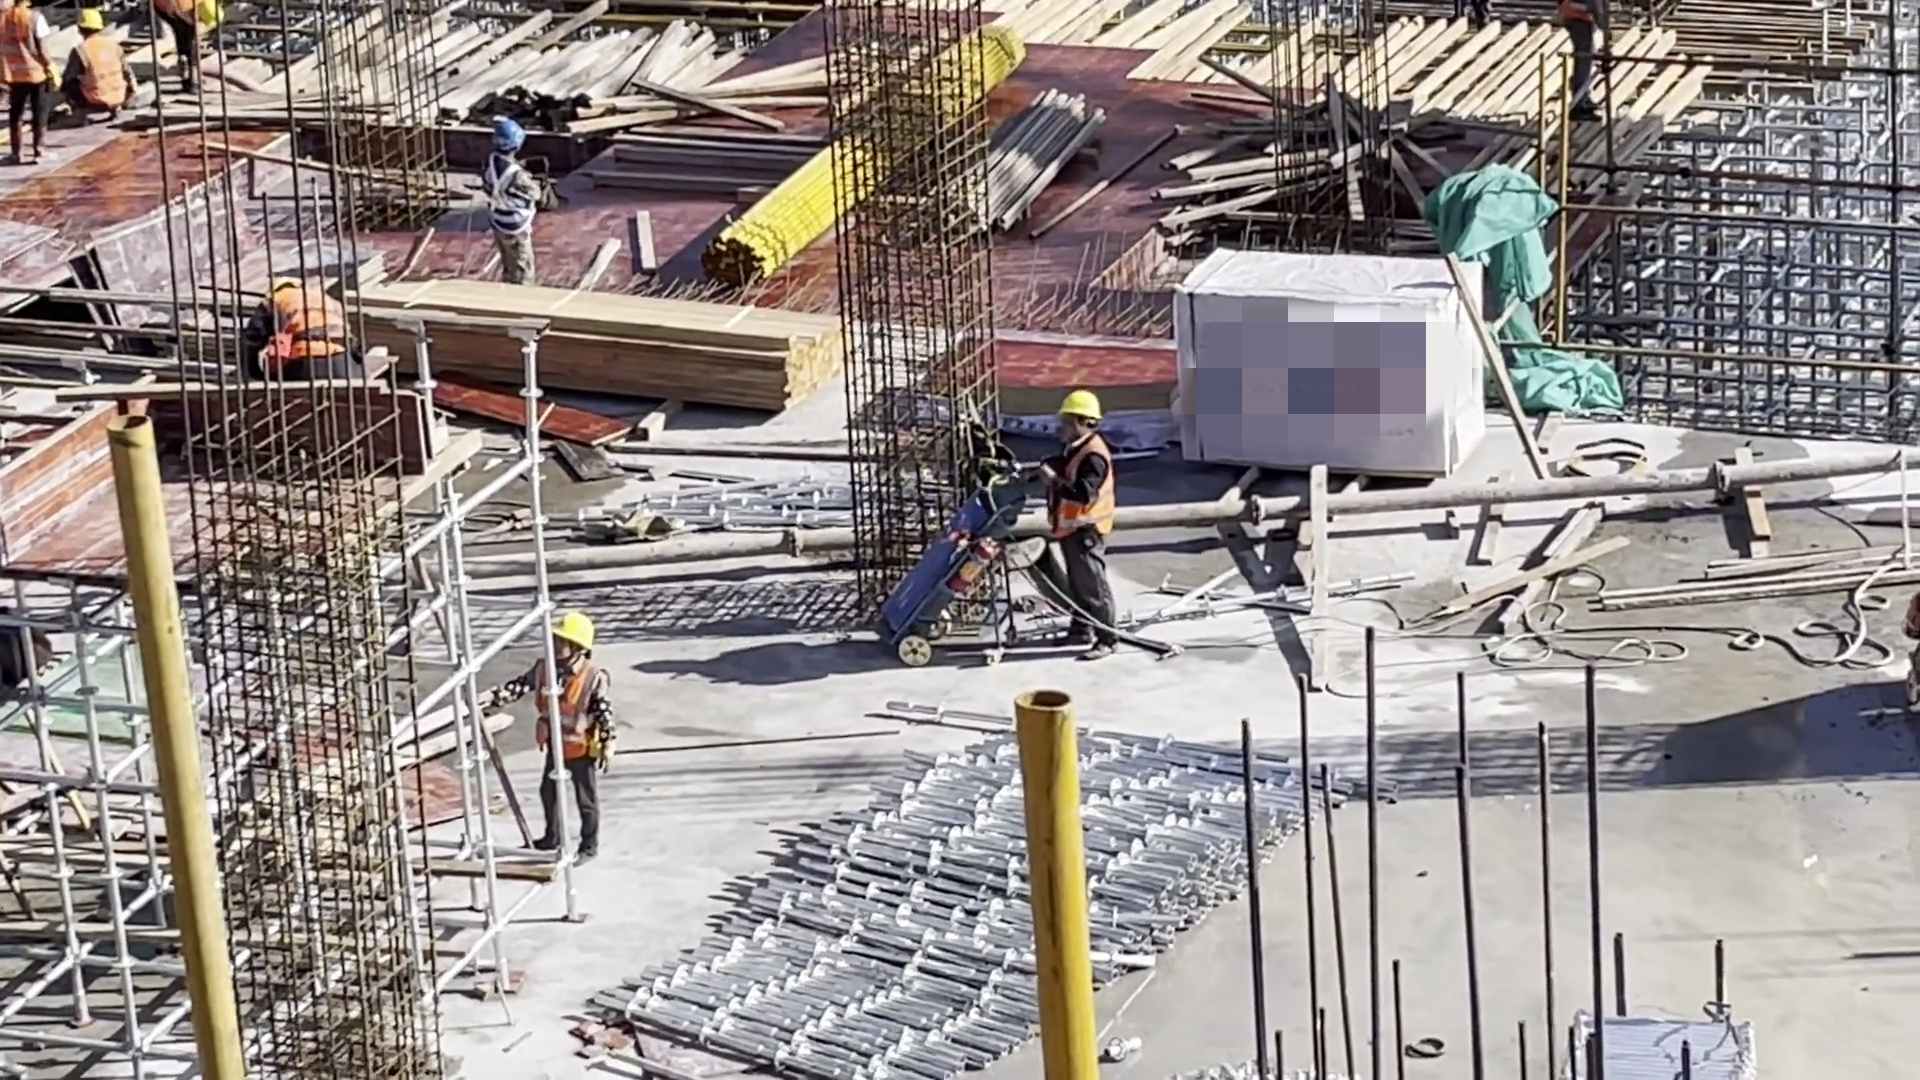helmet: (1059, 390, 1103, 421), (555, 614, 599, 643), (489, 120, 525, 149), (76, 9, 103, 34), (196, 2, 224, 27)
person: (477, 620, 633, 869), (1049, 385, 1136, 669), (241, 275, 393, 405), (475, 115, 552, 283), (69, 8, 144, 131), (4, 2, 54, 183), (1547, 5, 1614, 122), (162, 2, 236, 90)
vest: (532, 651, 610, 754), (1057, 435, 1120, 536), (477, 150, 537, 235), (270, 290, 343, 357), (70, 38, 126, 110), (4, 10, 51, 84)
